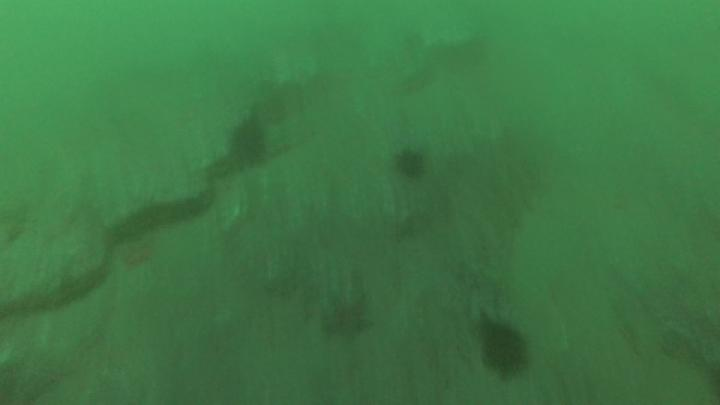echinus: (482, 323, 525, 378), (230, 124, 266, 169), (399, 151, 424, 179)
starfish: (324, 291, 373, 343)
